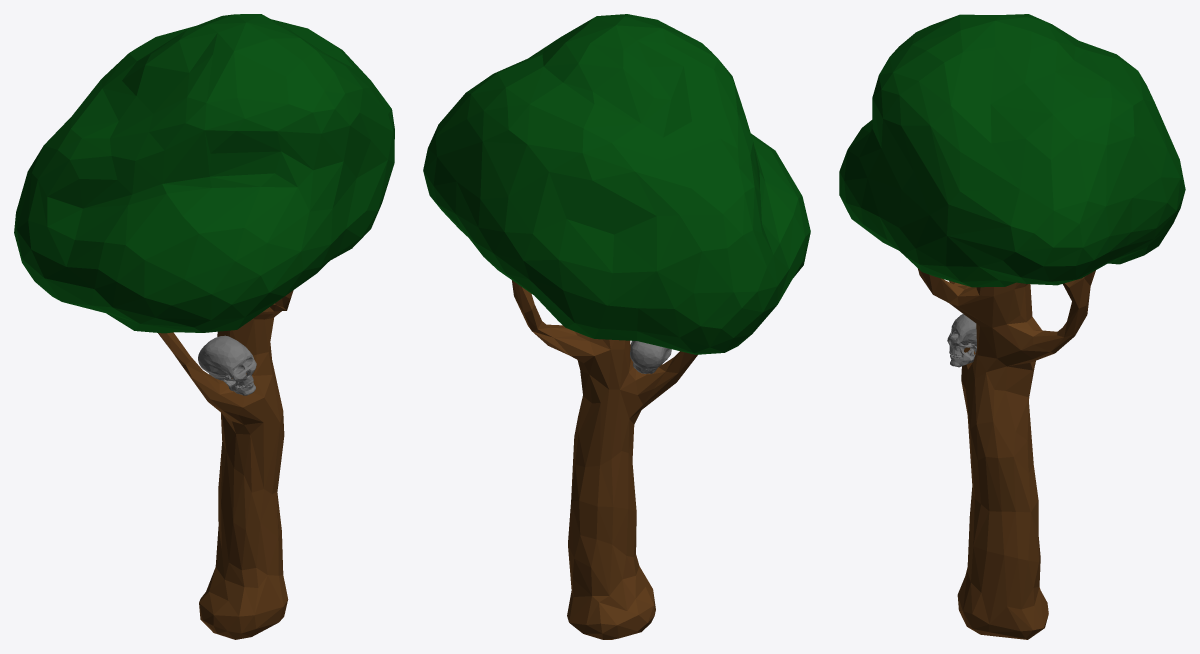
Rendered from Koljupuu.fbx.
3 views of the same model, side by side, from view 1: azimuth 30°, elevation 25°; view 2: azimuth 150°, elevation 25°; view 3: azimuth 270°, elevation 25° (orthographic).
Parts seen in each view (by area): view 1: Cube; view 2: Cube; view 3: Cube.
Part boxes in pixels (x1,y1,x2,y2): Cube: (14,14,394,639); Cube: (423,14,810,639); Cube: (839,14,1185,639).
Size of the model in its own units: 6161 by 10222 by 5244.
